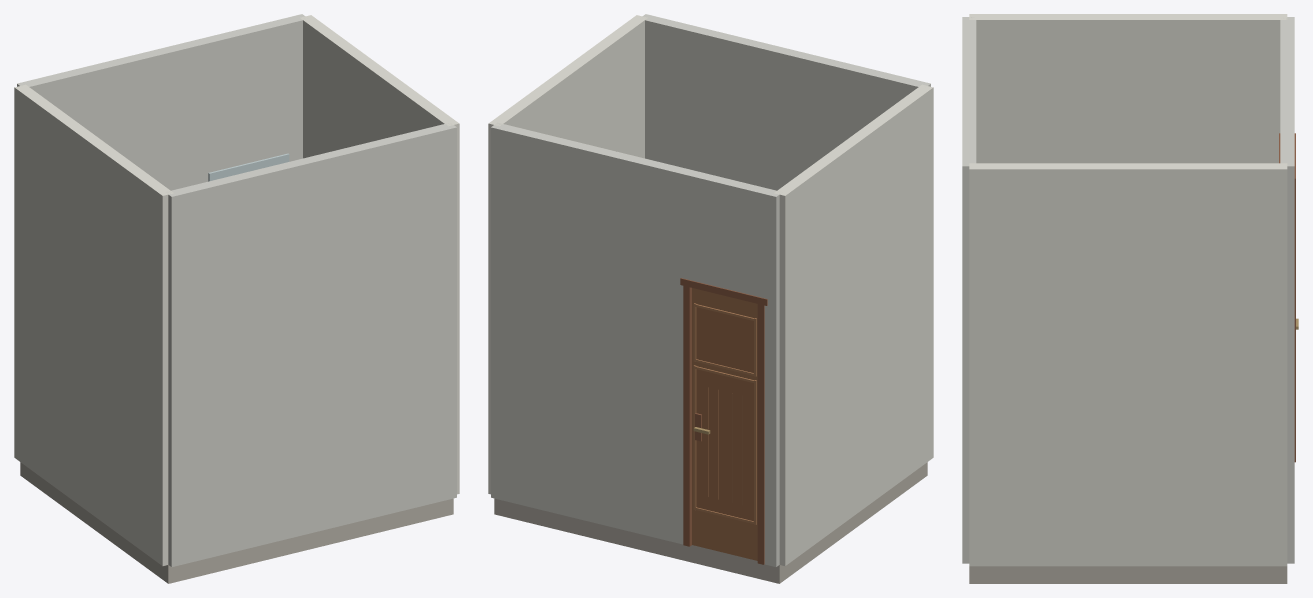
The model's file is bano_base.glb.
The picture shows the model from 3 angles, left to right: view 1: azimuth 30°, elevation 25°; view 2: azimuth 150°, elevation 25°; view 3: azimuth 270°, elevation 25°; orthographic projection. The views are drawn at different scales.
Visible parts, largest first — view 1: pared_entrada_bano_exterior, pared_larga_izquierda_bano, pared_fondo_bano_norte, pared_larga_derecha_bano, base_suelo_bano, pared_fondo_bano_dintel, espejo_bano; view 2: pared_fondo_bano_norte, pared_larga_izquierda_bano, pared_entrada_bano_exterior, pared_larga_derecha_bano, pared_fondo_bano_dintel, panel_central_puerta_bano, base_suelo_bano, pared_fondo_bano_sur, hoja_puerta_bano, panel_superior_puerta_bano, marco_entrada_bano_norte, marco_entrada_bano_sur (+1 smaller); view 3: pared_larga_derecha_bano, pared_larga_izquierda_bano, base_suelo_bano, pared_entrada_bano_exterior, pared_fondo_bano_norte, pared_fondo_bano_dintel, marco_entrada_bano_norte.
Boxes of the visible parts, <box> form: pared_entrada_bano_exterior: <box>166,123,456,566</box>; pared_larga_izquierda_bano: <box>14,84,173,565</box>; pared_fondo_bano_norte: <box>106,14,307,190</box>; pared_larga_derecha_bano: <box>300,15,459,494</box>; base_suelo_bano: <box>20,462,453,583</box>; pared_fondo_bano_dintel: <box>32,62,112,147</box>; espejo_bano: <box>208,153,289,181</box>; pared_fondo_bano_norte: <box>491,122,693,544</box>; pared_larga_izquierda_bano: <box>774,84,933,565</box>; pared_entrada_bano_exterior: <box>640,14,930,190</box>; pared_larga_derecha_bano: <box>488,15,647,494</box>; pared_fondo_bano_dintel: <box>687,170,767,297</box>; panel_central_puerta_bano: <box>696,369,753,521</box>; base_suelo_bano: <box>494,462,927,583</box>; pared_fondo_bano_sur: <box>761,188,782,566</box>; hoja_puerta_bano: <box>692,288,757,560</box>; panel_superior_puerta_bano: <box>696,307,753,372</box>; marco_entrada_bano_norte: <box>683,283,691,546</box>; marco_entrada_bano_sur: <box>757,300,764,564</box>; pared_larga_derecha_bano: <box>969,163,1287,566</box>; pared_larga_izquierda_bano: <box>969,14,1287,163</box>; base_suelo_bano: <box>969,566,1287,583</box>; pared_entrada_bano_exterior: <box>962,17,976,563</box>; pared_fondo_bano_norte: <box>1280,63,1294,563</box>; pared_fondo_bano_dintel: <box>1280,24,1294,63</box>; marco_entrada_bano_norte: <box>1294,185,1295,462</box>.
Size of the model in its own units: 2.6 by 3.26 by 2.38.
